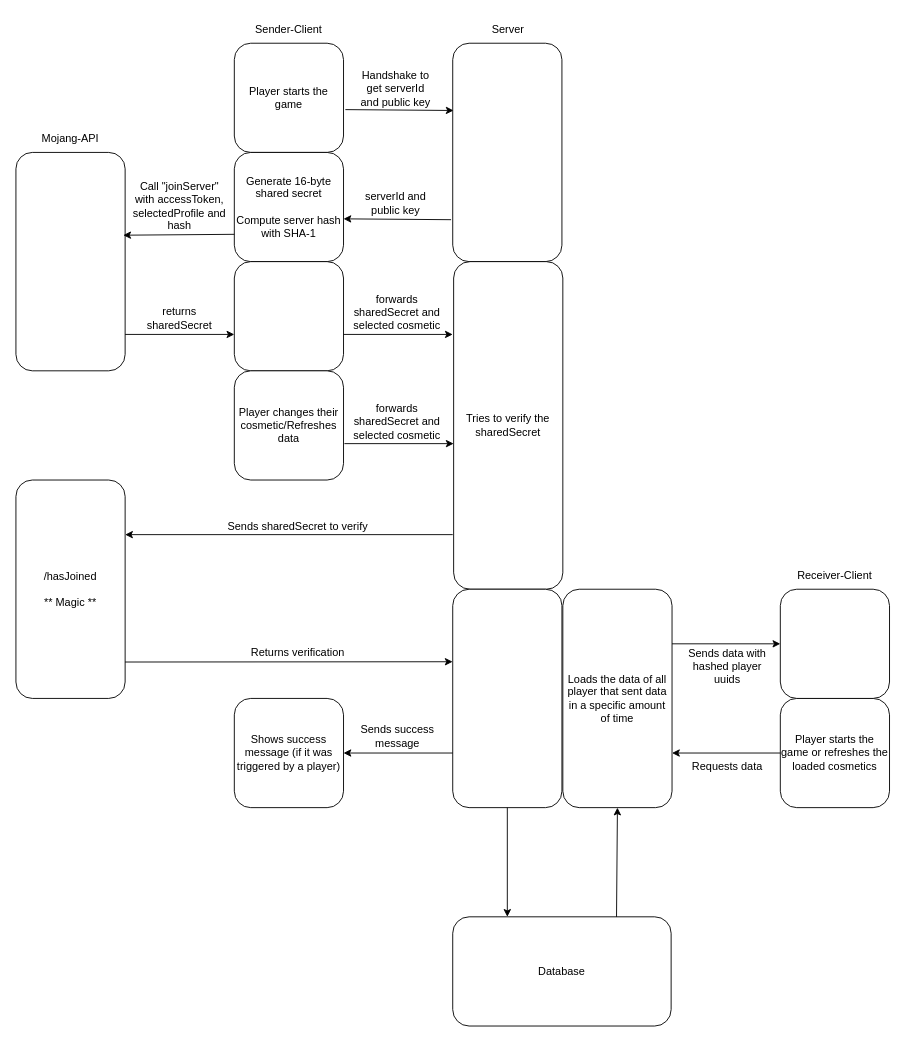
Some shapes in this 905 by 1042 pixel diagram are drawn without their labels. The box of each missing label's shape, as (x1, y1, x2, y2) in pixels:
/joinServer ** Magic **: (15, 152, 125, 371)
Generates (if not preset) and returns publicKey: (452, 42, 562, 262)
Shows cosmetics: (779, 588, 890, 698)
Stores selected cosmetic in database: (452, 588, 562, 808)
Stores sharedSecret: (233, 261, 344, 371)
